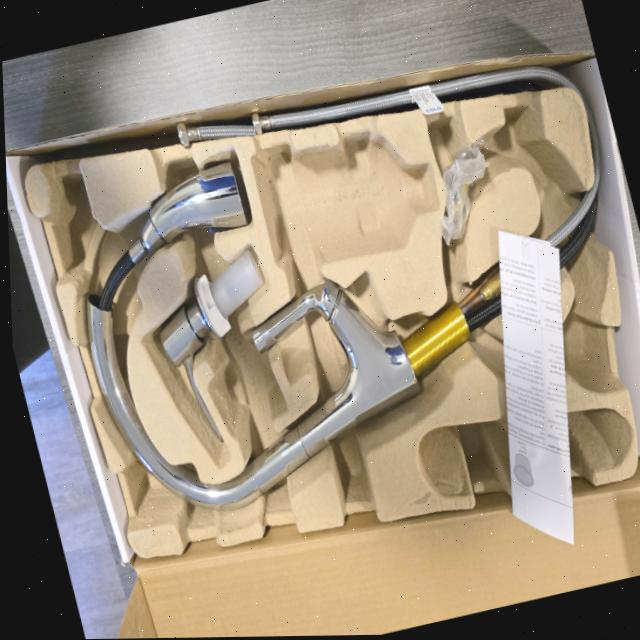1o: (83, 160, 596, 512)
2: (157, 247, 262, 443)
3m: (250, 134, 438, 264)
4m: (417, 410, 631, 499)
5m: (544, 316, 595, 380)
6: (442, 142, 487, 249)
7m: (490, 108, 561, 203)
8: (496, 228, 573, 547)
